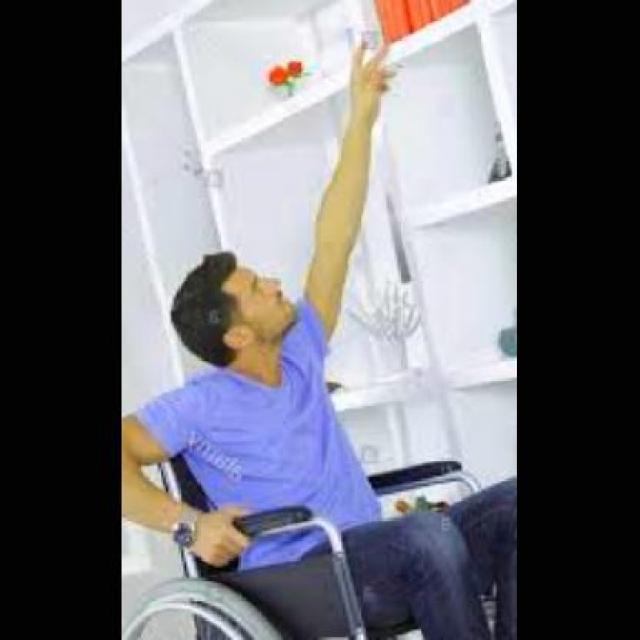wheelchairs: (132, 428, 500, 640)
